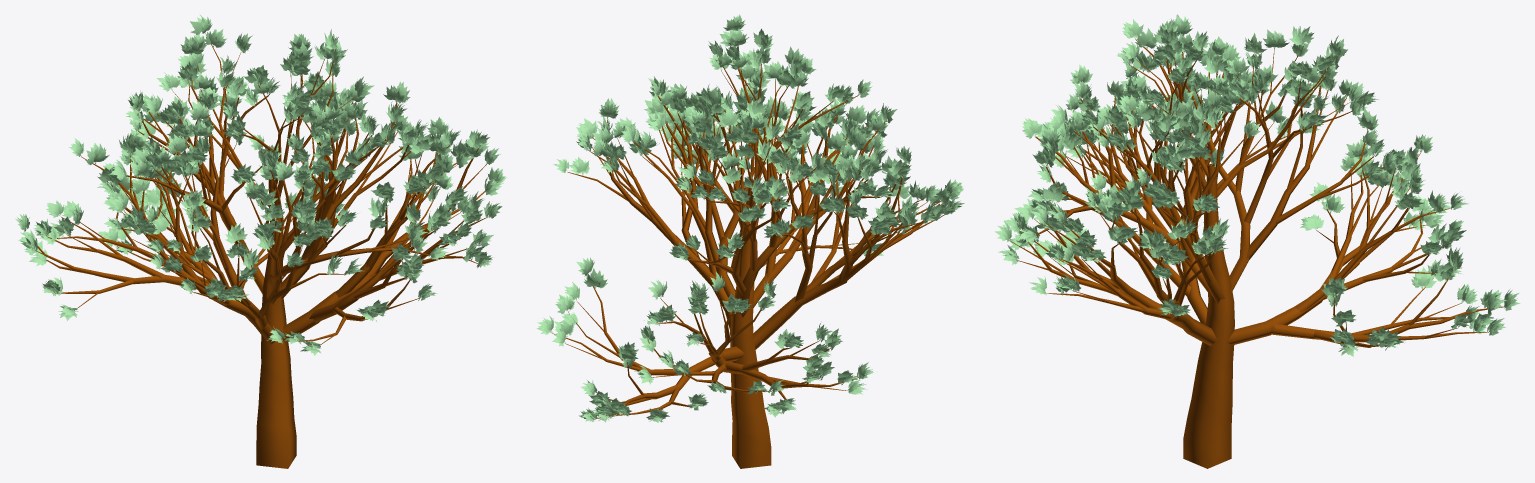
File: FinalTree37.fbx
3 renders of one model, left to right at view 1: azimuth 30°, elevation 25°; view 2: azimuth 150°, elevation 25°; view 3: azimuth 270°, elevation 25°, orthographic. The views are drawn at different scales.
Parts seen in each view (by area): view 1: Árbol; view 2: Árbol; view 3: Árbol.
Boxes of the visible parts, <box> form: Árbol: <box>35,33,487,468</box>; Árbol: <box>552,46,944,468</box>; Árbol: <box>1010,39,1503,468</box>.
Size of the model in its own units: 722 by 752 by 798.
